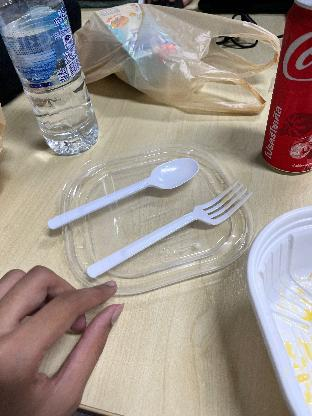Others: (89, 178, 259, 282), (43, 150, 204, 236)
Plastic Bottle: (0, 0, 102, 154)
